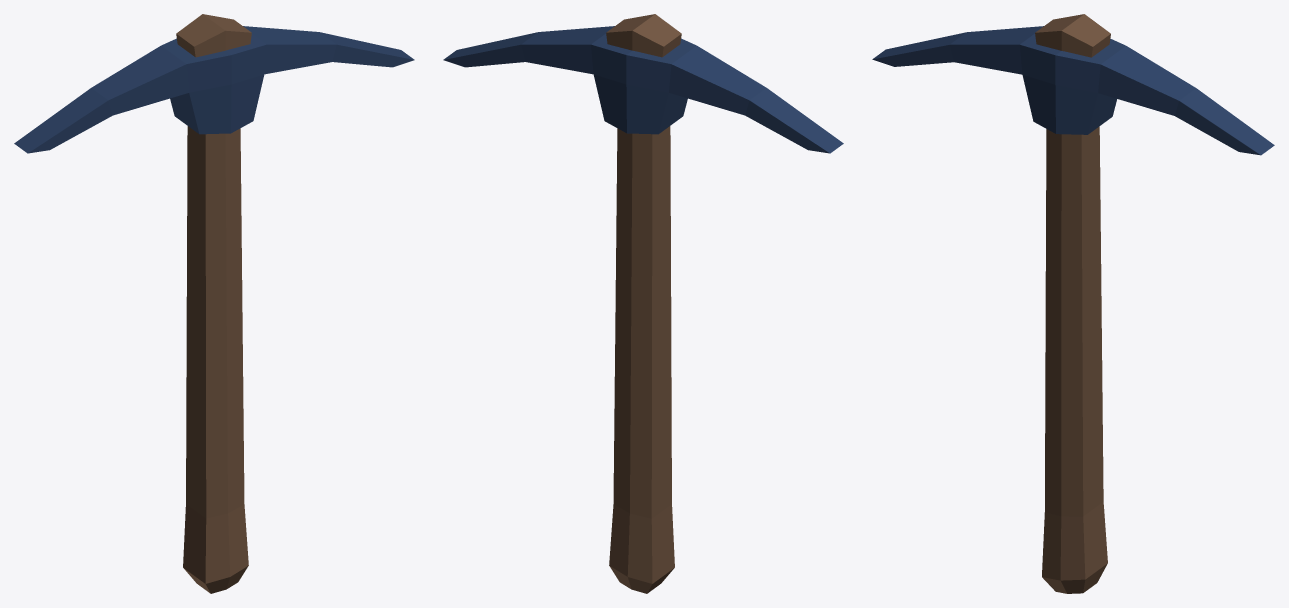
File: pickaxe.fbx
3 views of the same model, side by side, from view 1: azimuth 30°, elevation 25°; view 2: azimuth 150°, elevation 25°; view 3: azimuth 330°, elevation 25° (orthographic).
Visible parts, largest first — view 1: pickaxe; view 2: pickaxe; view 3: pickaxe.
Boxes of the visible parts, x1=… form: pickaxe: x1=14, y1=14, x2=414, y2=593; pickaxe: x1=443, y1=14, x2=843, y2=593; pickaxe: x1=872, y1=14, x2=1274, y2=593.
Bounding box in the file's own units: 0.8749 × 1.22 × 0.1367.
